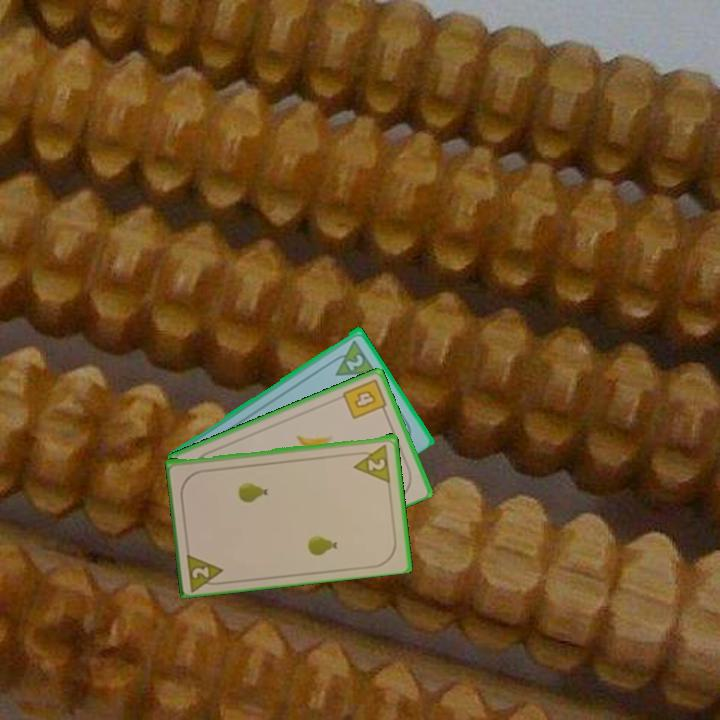2p: (325, 336, 378, 379), (183, 548, 228, 592), (350, 440, 393, 484)
4b: (339, 375, 390, 422)
